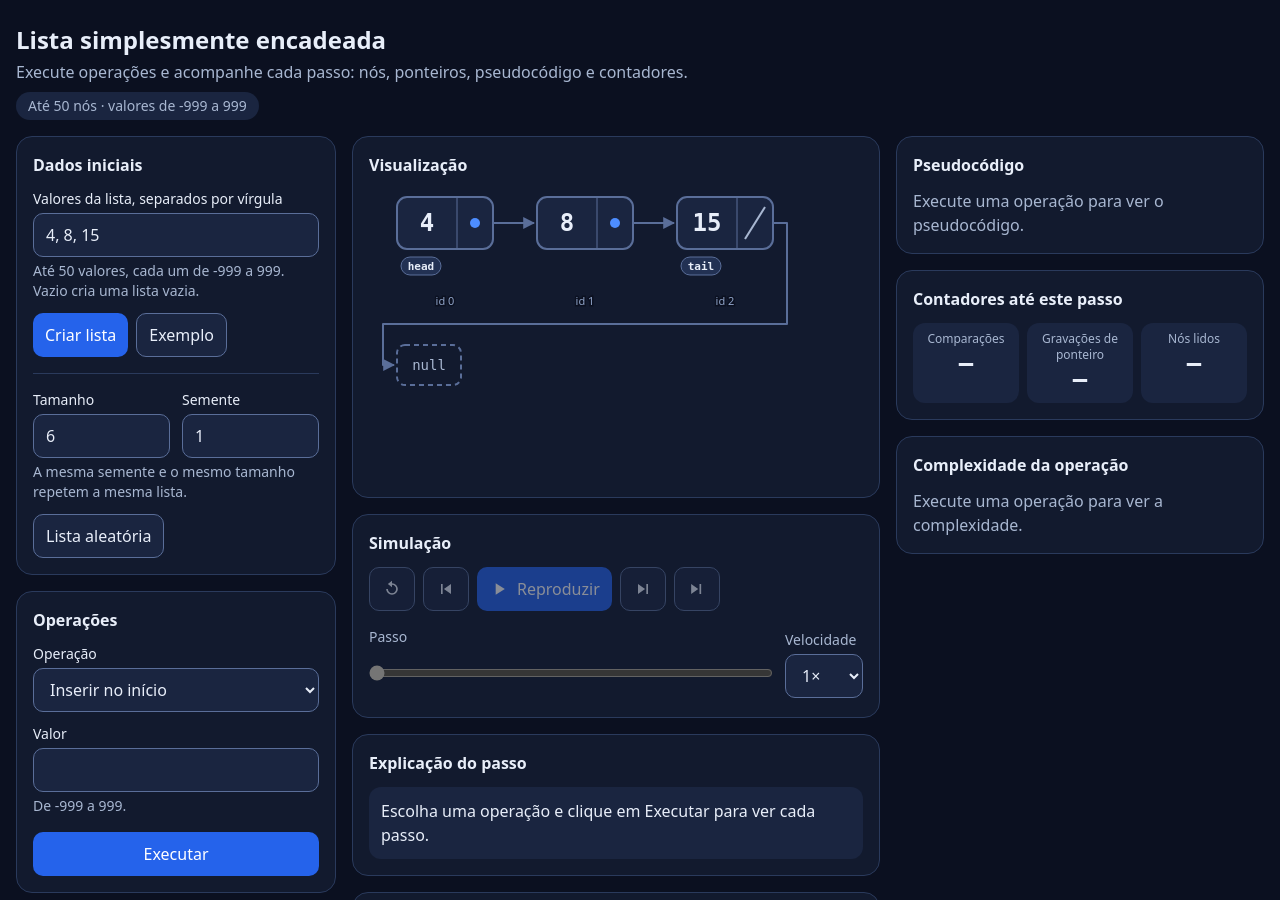
Test: tratamento de erros › valor fora da faixa mostra o intervalo e não executa
Select "Inserir no início" in the dropdown labelled "Operação" at (176, 690), box [33,668,319,712]
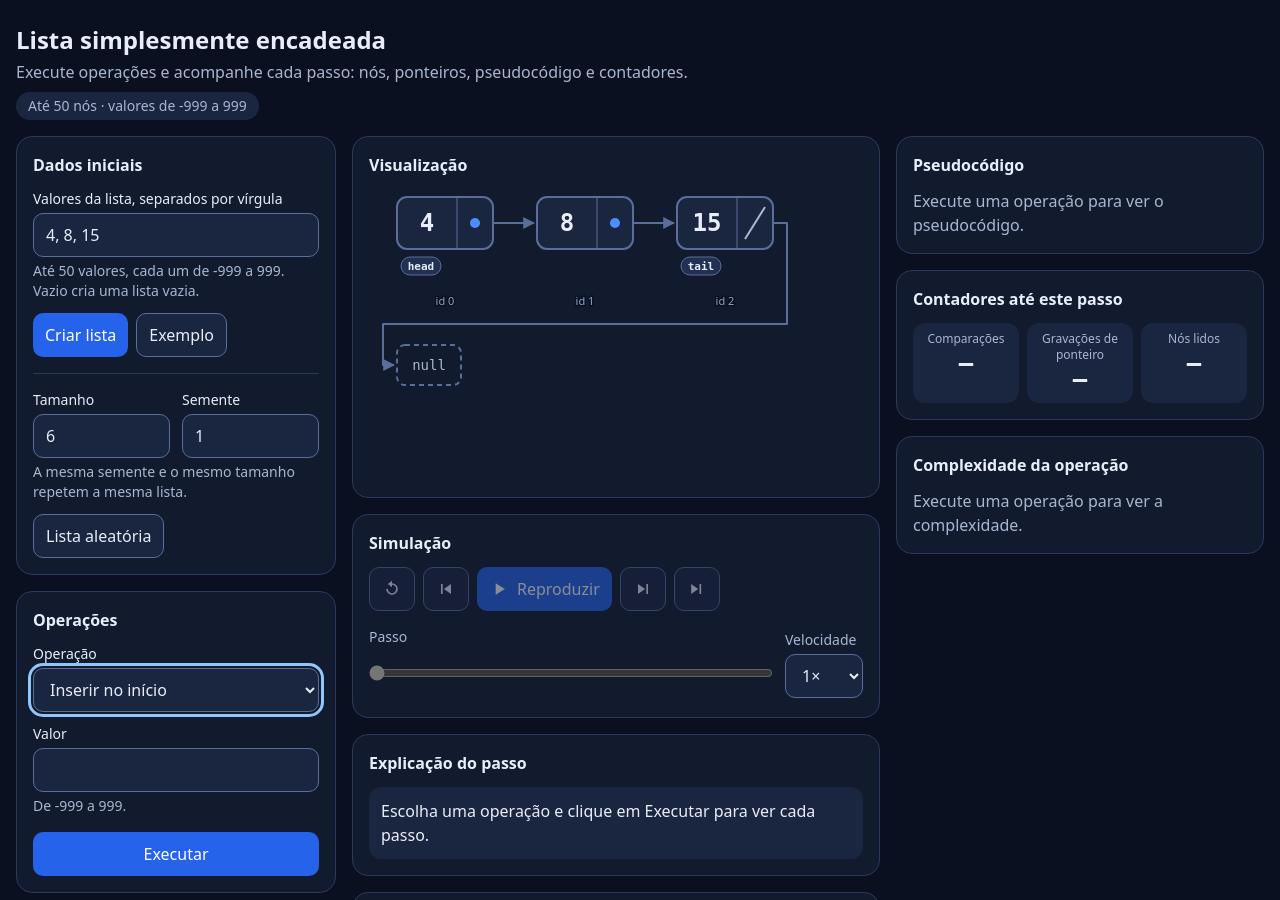
Type "5000" into the field labelled "Valor".
click(176, 770); type("5000")  # box [33,748,319,792]
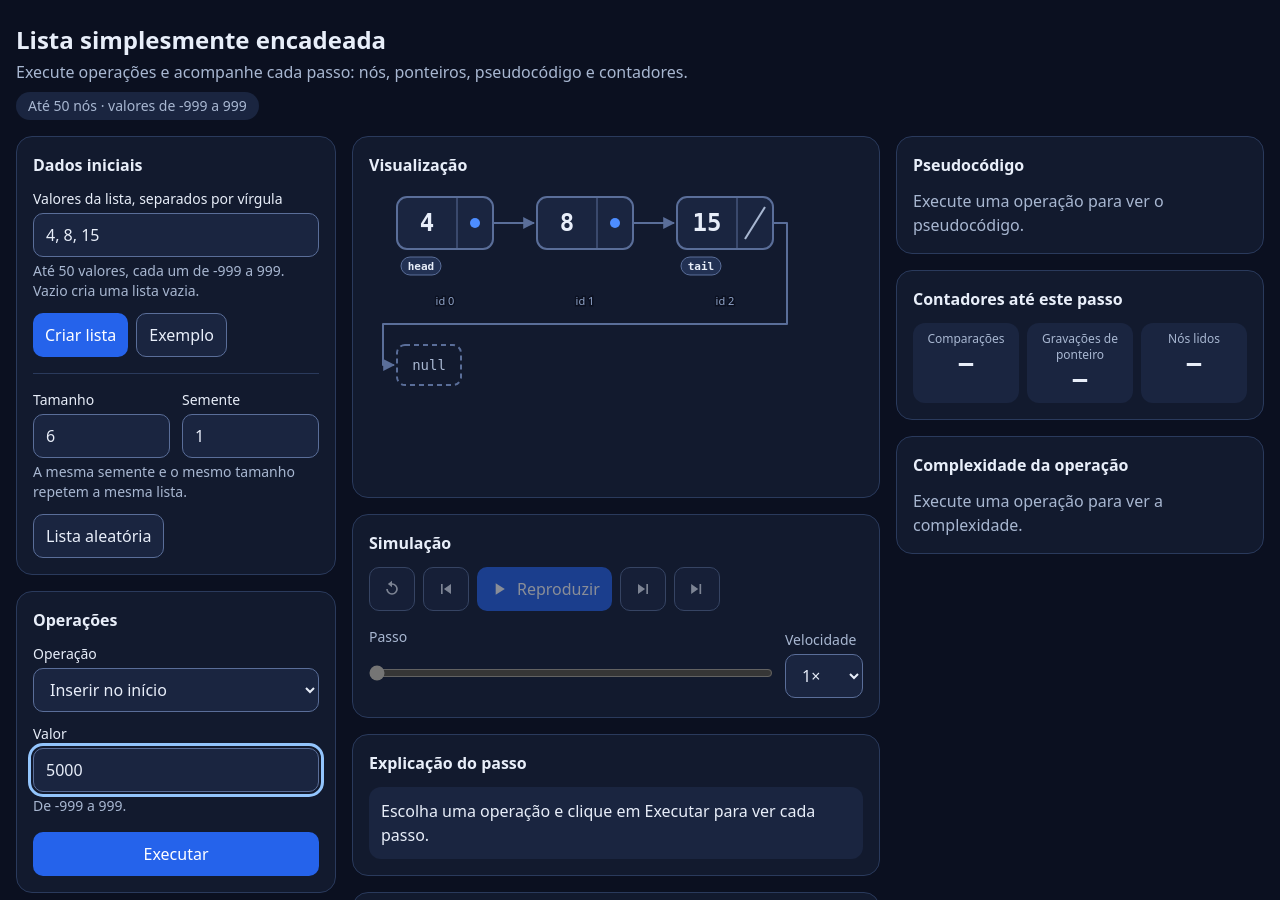
Click the button "Executar".
click(176, 854)  # box [33,832,319,876]
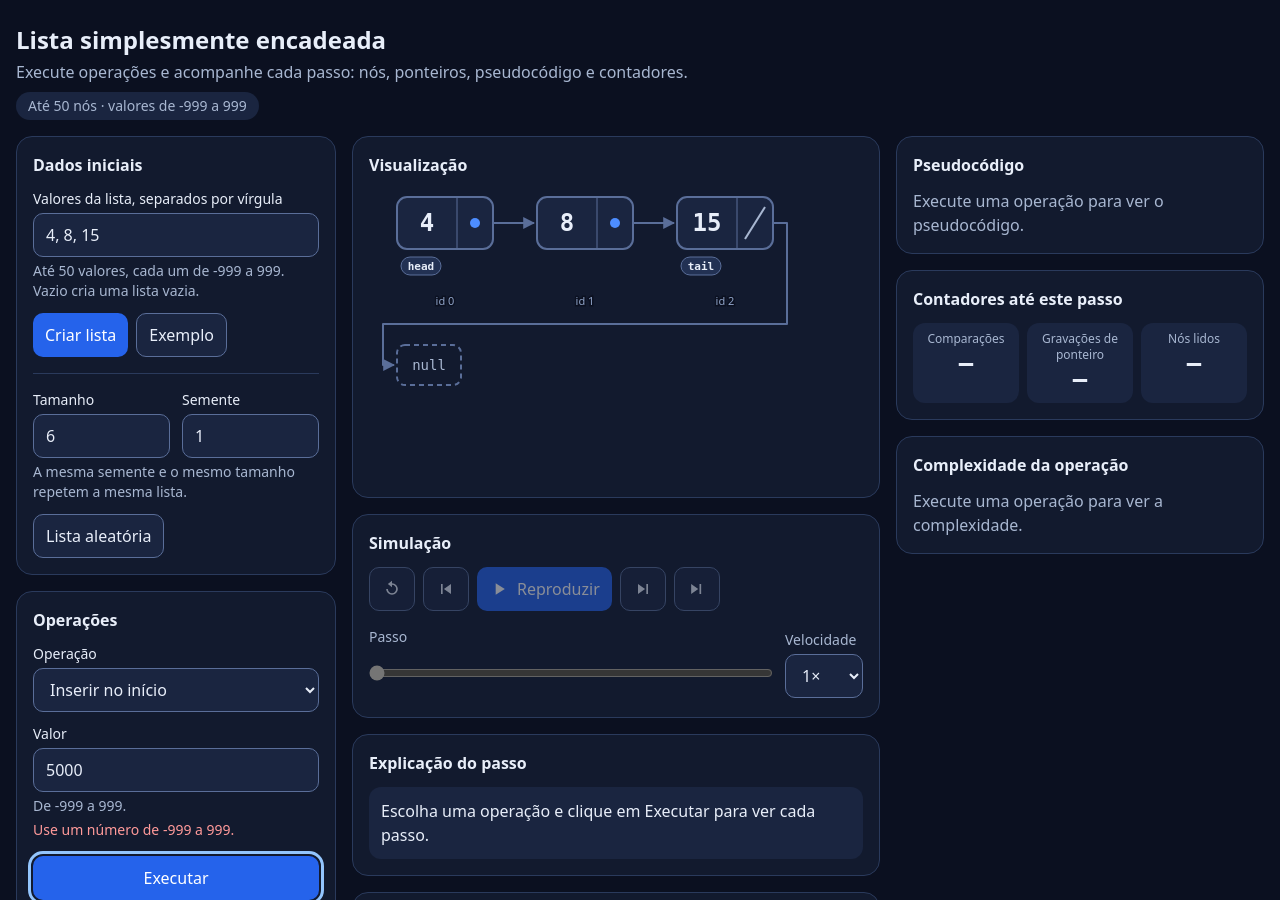
Expected: the text "Use um número de -999 a 999." is shown, [33,820,234,839]
